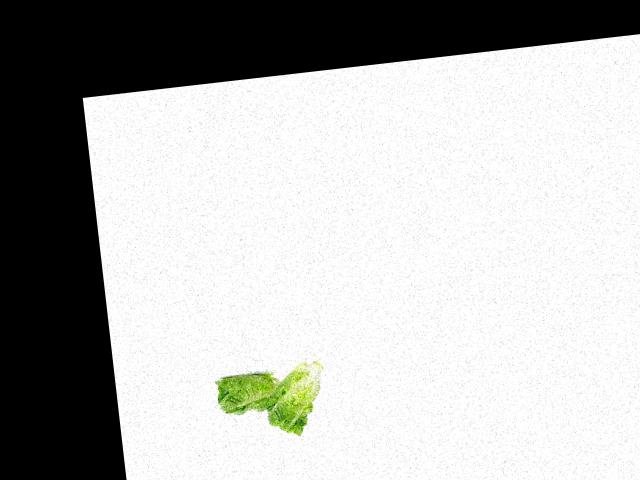lettuce: (253, 354, 331, 437)
